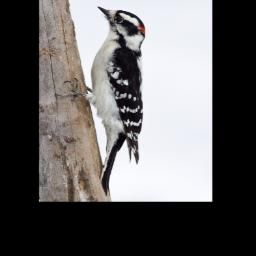Woodpecker: (55, 3, 148, 197)
